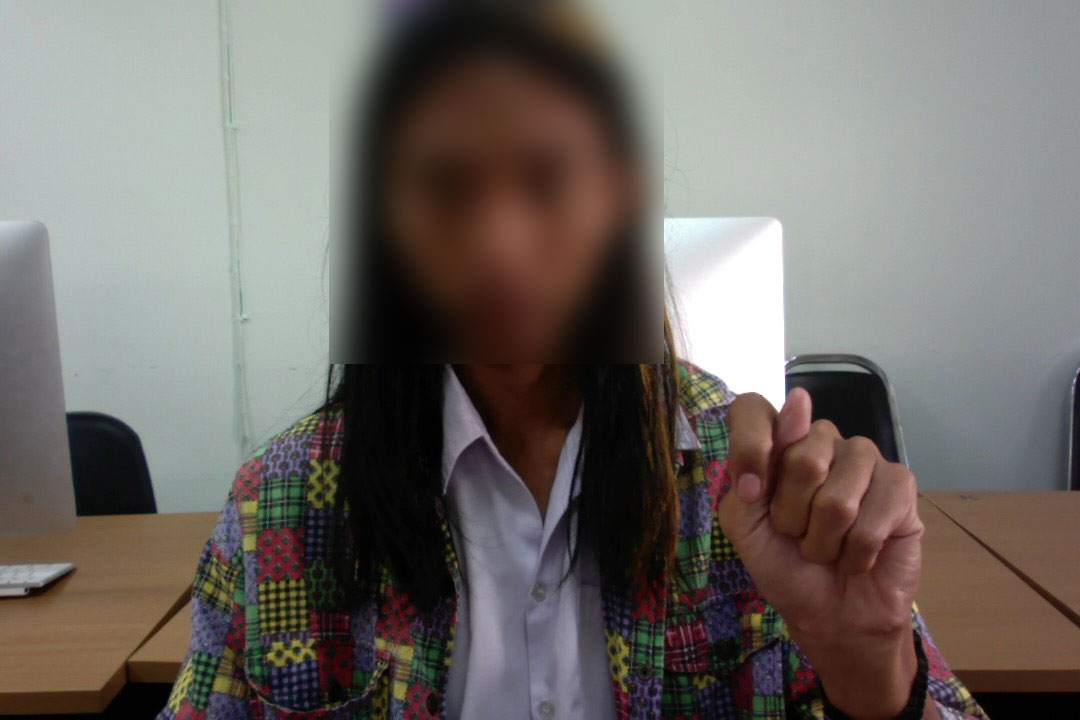tor: (705, 381, 936, 680)
